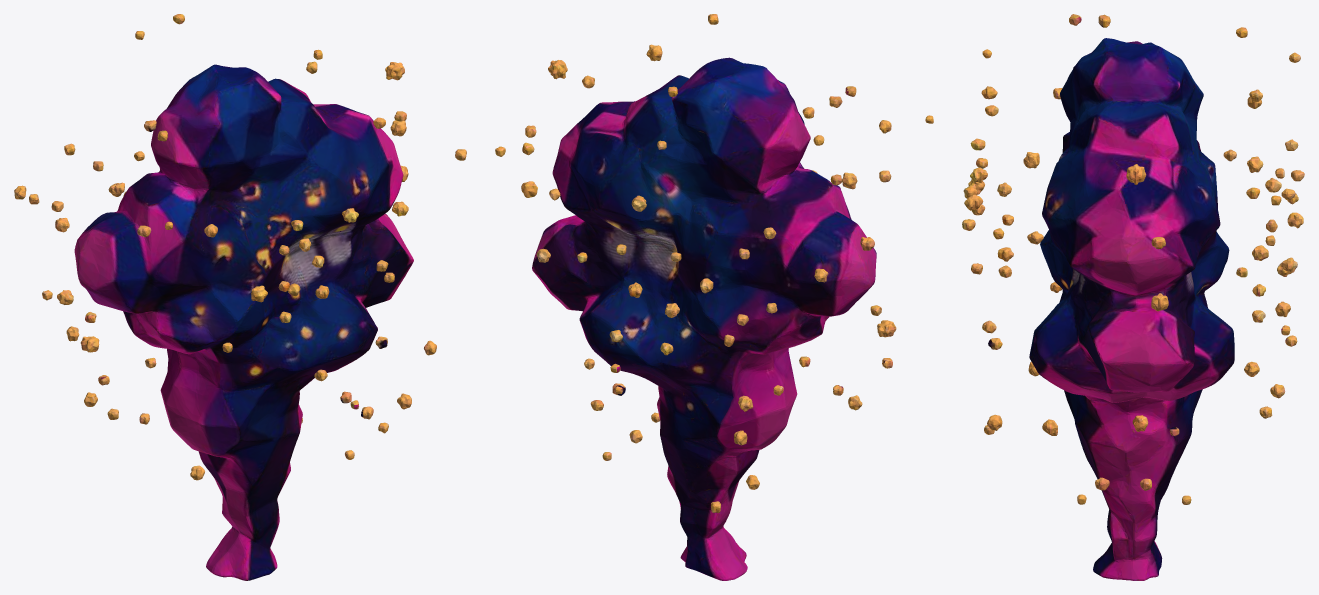
Rendered from POLLENCLOUD.glb.
The picture shows the model from 3 angles, left to right: view 1: azimuth 30°, elevation 25°; view 2: azimuth 150°, elevation 25°; view 3: azimuth 270°, elevation 25°; orthographic projection. The views are drawn at different scales.
Visible parts, largest first — view 1: POLLENCLOUD; view 2: POLLENCLOUD; view 3: POLLENCLOUD.
Boxes of the visible parts, box(x1,y1,x2,y2) form: POLLENCLOUD: box(14, 14, 466, 580); POLLENCLOUD: box(495, 14, 933, 580); POLLENCLOUD: box(962, 14, 1304, 580).
Size of the model in its own units: 1.42 by 1.99 by 1.15.
Materials: 1 (1 with a texture image).
